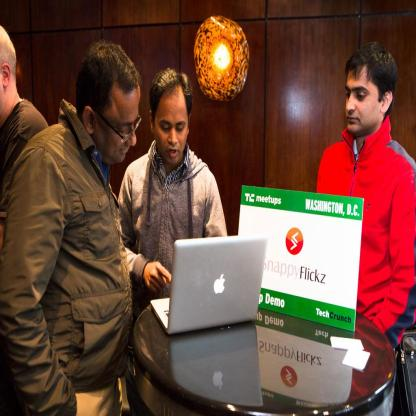board: (149, 238, 266, 334), (168, 323, 264, 408)
